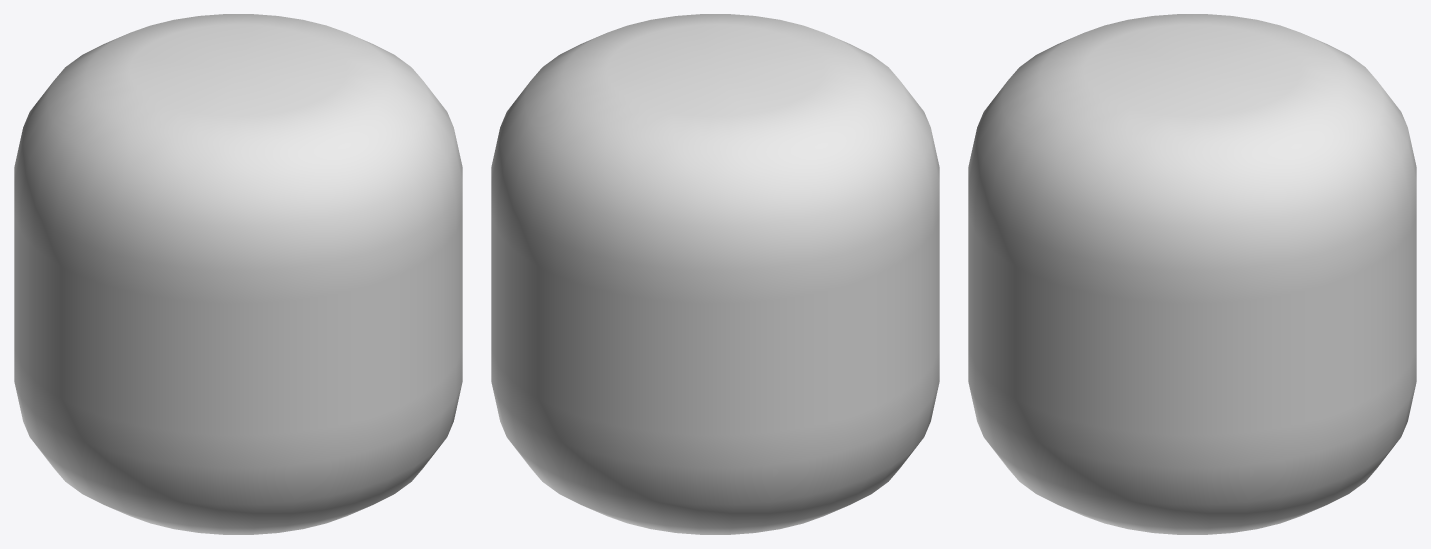
The model's file is 09-Silly-derpy-face-face.glb.
3 views of the same model, side by side, from view 1: azimuth 30°, elevation 25°; view 2: azimuth 150°, elevation 25°; view 3: azimuth 270°, elevation 25° (orthographic).
Visible parts, largest first — view 1: 09-Silly-derpy-face-face; view 2: 09-Silly-derpy-face-face; view 3: 09-Silly-derpy-face-face.
Boxes of the visible parts, x1,y1,x2,y2 form: 09-Silly-derpy-face-face: (14, 14, 462, 534); 09-Silly-derpy-face-face: (491, 14, 939, 534); 09-Silly-derpy-face-face: (968, 14, 1416, 534).
Bounding box in the file's own units: 1.25 × 1.26 × 1.25.
Materials: 1 (1 with a texture image).
